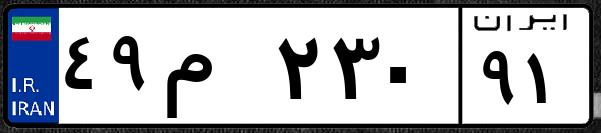0: (385, 28, 445, 110)
1: (525, 38, 570, 115)
2: (270, 28, 330, 110)
3: (330, 28, 385, 110)
4: (57, 26, 110, 100)
9: (475, 38, 525, 113), (110, 28, 158, 98)
م: (158, 20, 270, 120)
